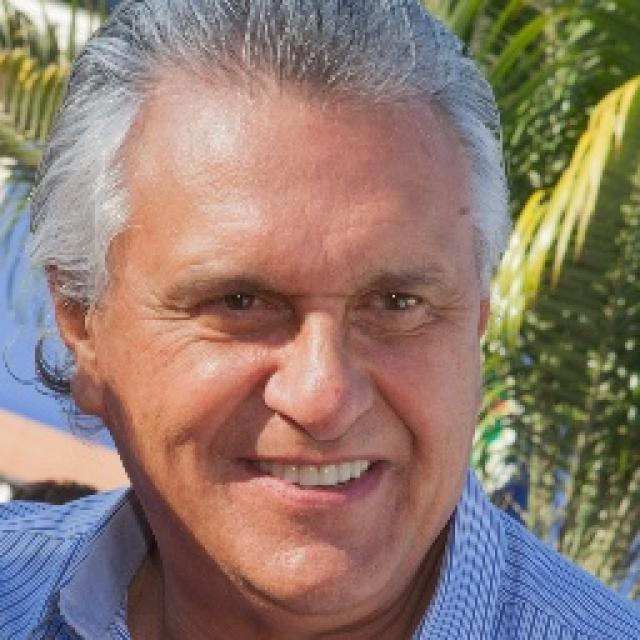earlobe: (70, 361, 113, 418)
eye: (202, 290, 274, 317), (357, 290, 426, 317)
nose: (260, 402, 384, 490)
wholeear: (44, 242, 113, 419)
